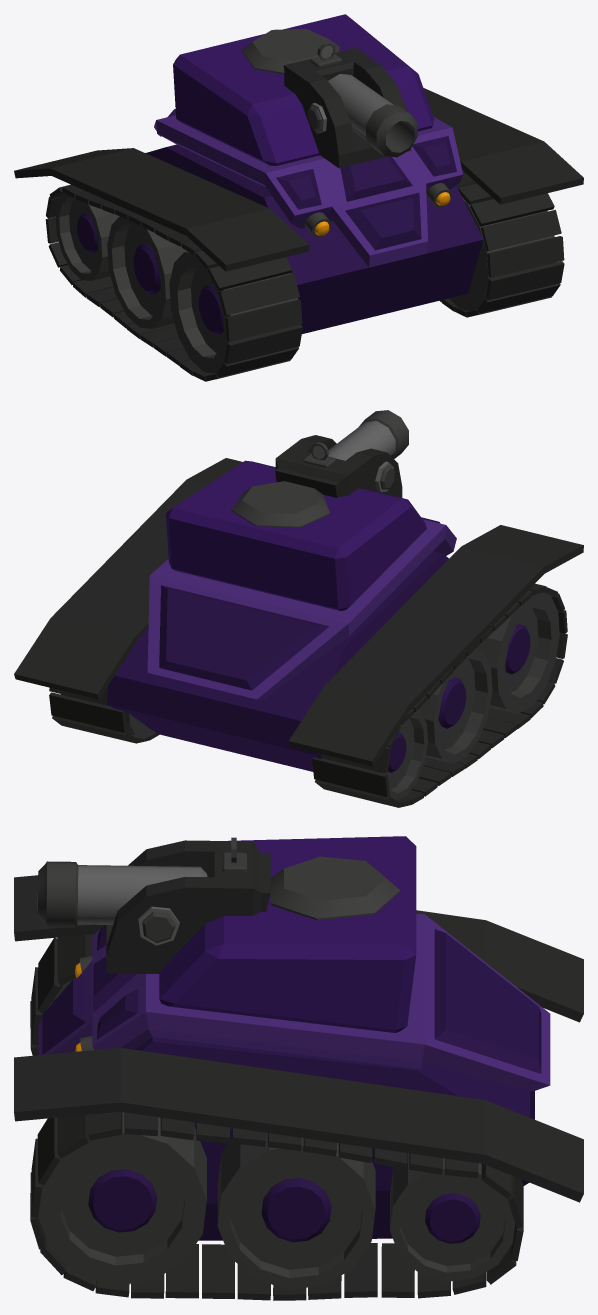
Rendered from Танк3.1.fbx.
3 views of the same model, one above another, from view 1: azimuth 30°, elevation 25°; view 2: azimuth 150°, elevation 25°; view 3: azimuth 270°, elevation 25° (orthographic). The views are drawn at different scales.
Parts seen in each view (by area): view 1: Plane.001, Plane.019; view 2: Plane.001, Plane.019; view 3: Plane.001, Plane.019.
Part boxes in pixels (x1,y1,x2,y2): Plane.001: (14,88,583,381); Plane.019: (173,14,434,168); Plane.001: (14,458,583,807); Plane.019: (165,410,426,610); Plane.001: (14,875,583,1300); Plane.019: (37,836,416,1032).
Bounding box in the file's own units: 379 × 267 × 389.
